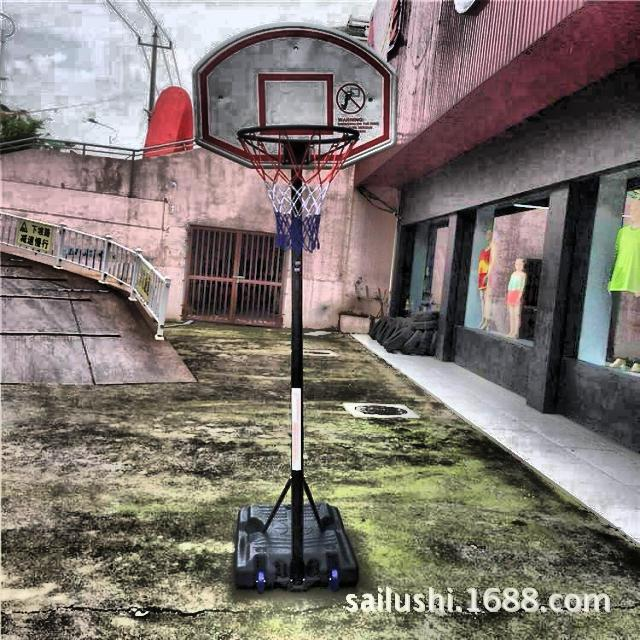rim: (239, 127, 359, 252)
